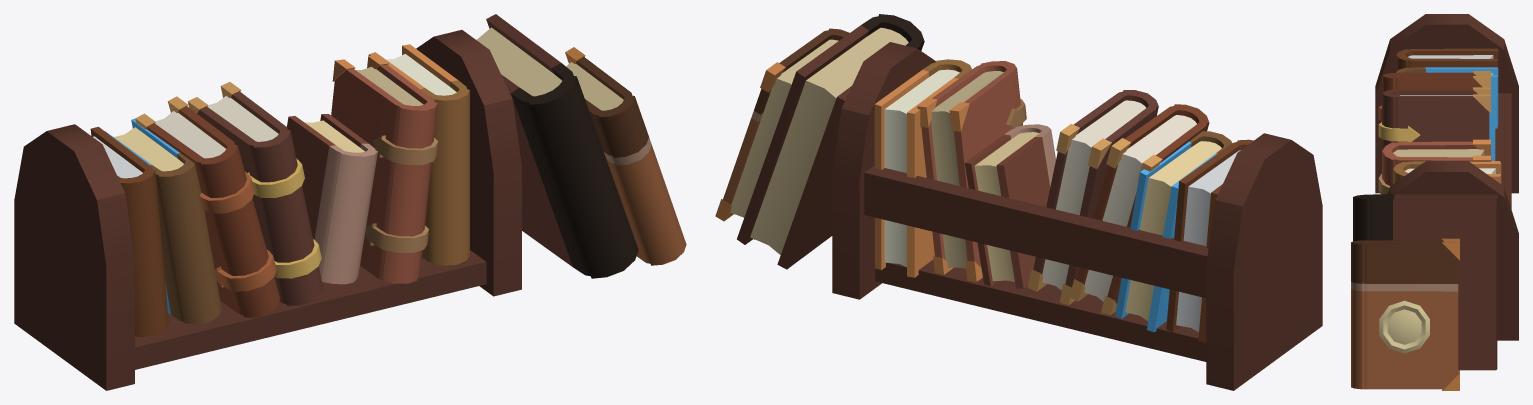
File: Book_L.fbx
3 views of the same model, side by side, from view 1: azimuth 30°, elevation 25°; view 2: azimuth 150°, elevation 25°; view 3: azimuth 270°, elevation 25° (orthographic). The views are drawn at different scales.
Parts seen in each view (by area): view 1: Book_L; view 2: Book_L; view 3: Book_L.
Part boxes in pixels (left/top/right/bottom): Book_L: left=14, top=14, right=686, bottom=390; Book_L: left=715, top=14, right=1322, bottom=390; Book_L: left=1351, top=14, right=1518, bottom=390.
Size of the model in its own units: 121 by 43.93 by 39.39.
